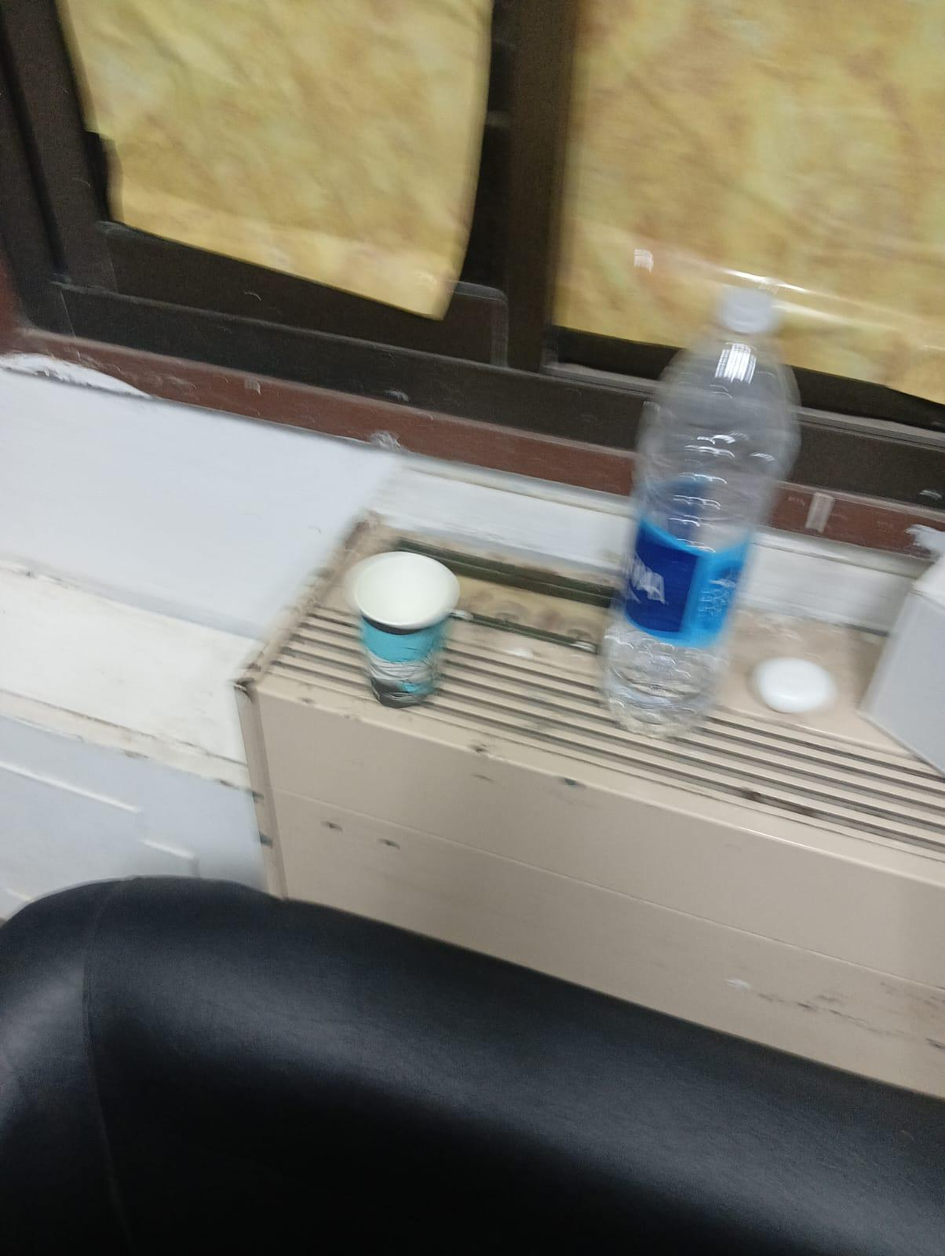cup: (347, 552, 458, 706), (358, 564, 443, 623)
